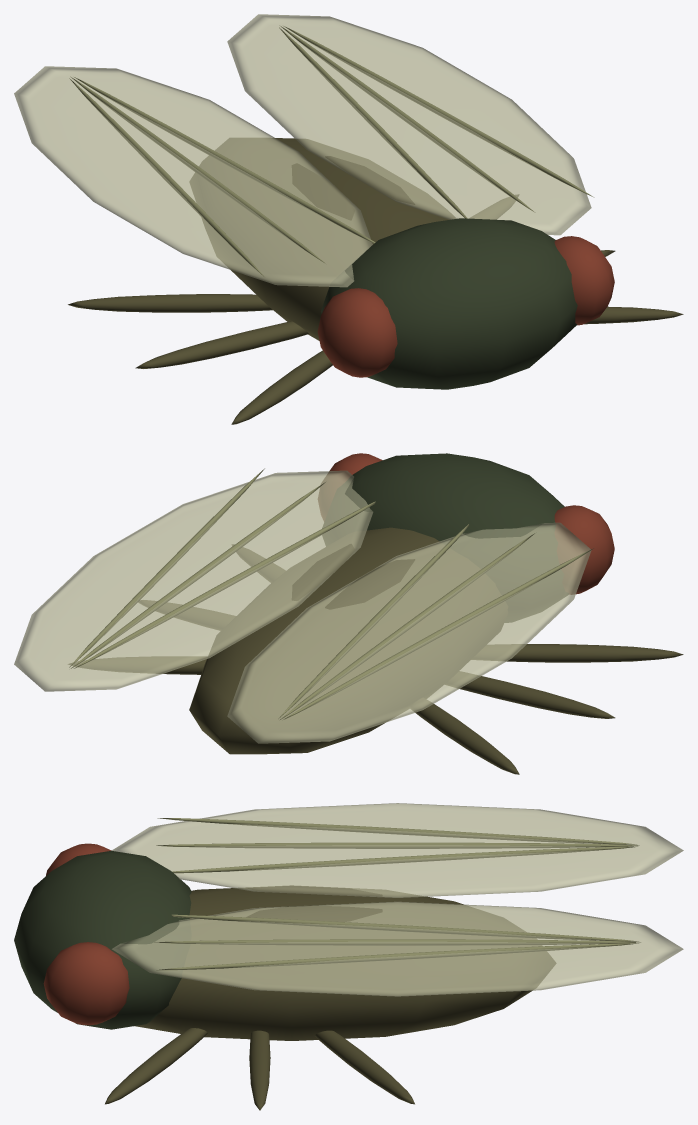
3 views of the same model, one above another, from view 1: azimuth 30°, elevation 25°; view 2: azimuth 150°, elevation 25°; view 3: azimuth 270°, elevation 25° (orthographic). The views are drawn at different scales.
Visible parts, largest first — view 1: 매미; view 2: 매미; view 3: 매미.
Part boxes in pixels (x1,y1,x2,y2): 매미: [14, 14, 683, 424]; 매미: [14, 453, 683, 774]; 매미: [14, 803, 683, 1110].
Bounding box in the file's own units: 0.2232 × 0.0738 × 0.2844.
